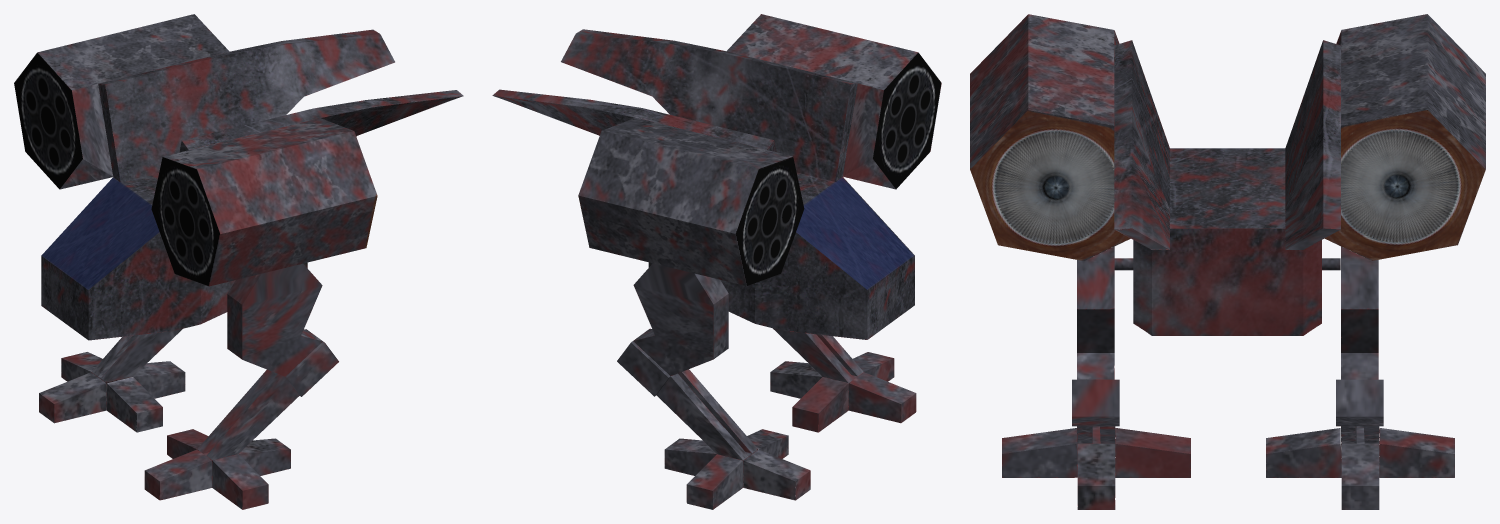
Rendered from Mek.dae.
3 views of the same model, side by side, from view 1: azimuth 30°, elevation 25°; view 2: azimuth 150°, elevation 25°; view 3: azimuth 270°, elevation 25° (orthographic). The views are drawn at different scales.
Visible parts, largest first — view 1: pPlane3; view 2: pPlane3; view 3: pPlane3.
Part boxes in pixels (x1,y1,x2,y2): pPlane3: (14,14,463,509); pPlane3: (492,14,941,509); pPlane3: (970,14,1485,509).
Bounding box in the file's own units: 13.49 × 12.45 × 13.64.
